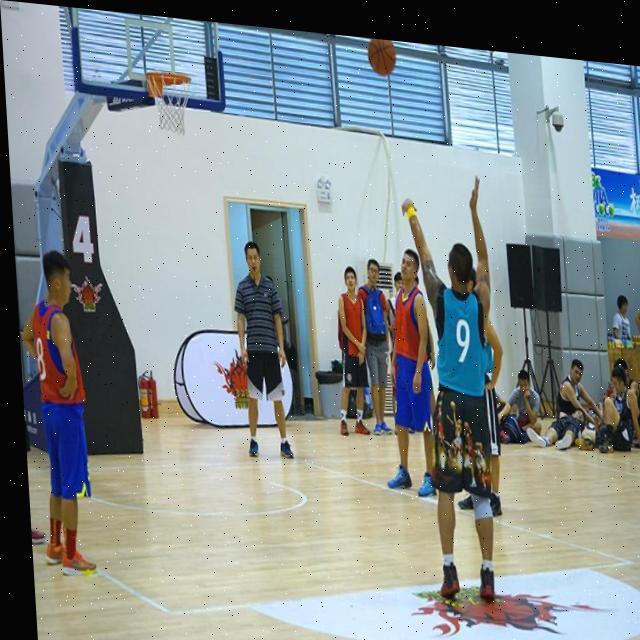basketball: (366, 38, 397, 79)
hoop: (144, 70, 196, 138)
